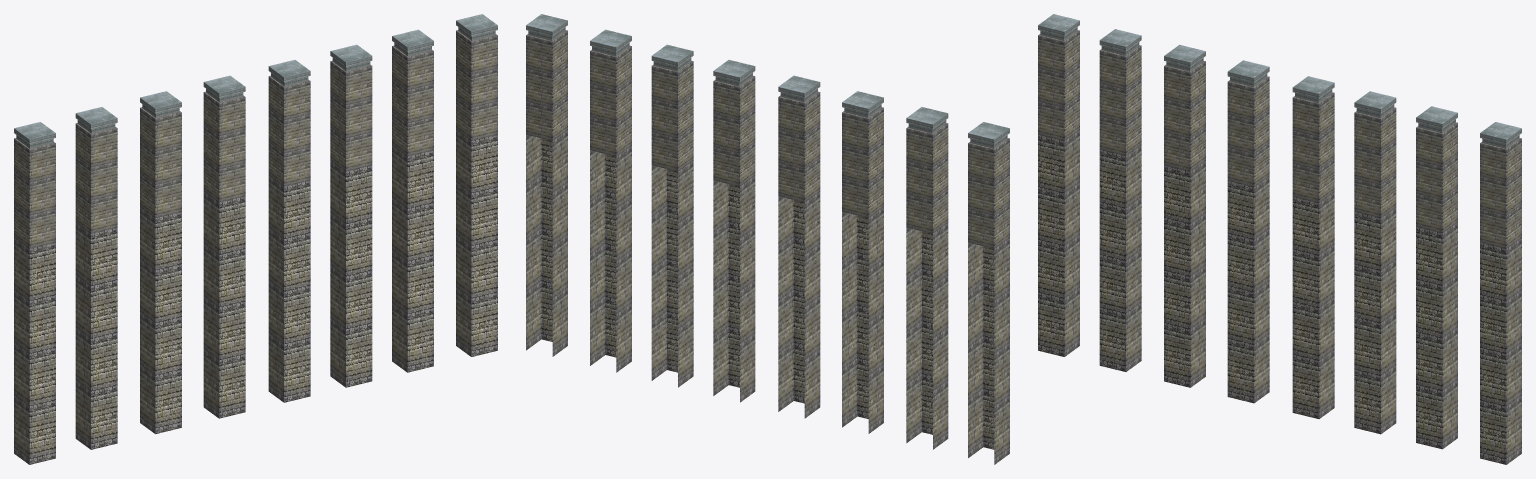
The picture shows the model from 3 angles, left to right: view 1: azimuth 30°, elevation 25°; view 2: azimuth 150°, elevation 25°; view 3: azimuth 330°, elevation 25°; orthographic projection.
Parts seen in each view (by area): view 1: Box19; view 2: Box19; view 3: Box19.
Boxes of the visible parts, x1=… form: Box19: x1=14, y1=14, x2=497, y2=464; Box19: x1=526, y1=14, x2=1009, y2=464; Box19: x1=1038, y1=14, x2=1521, y2=464.
Bounding box in the file's own units: 1918 × 1273 × 110.
